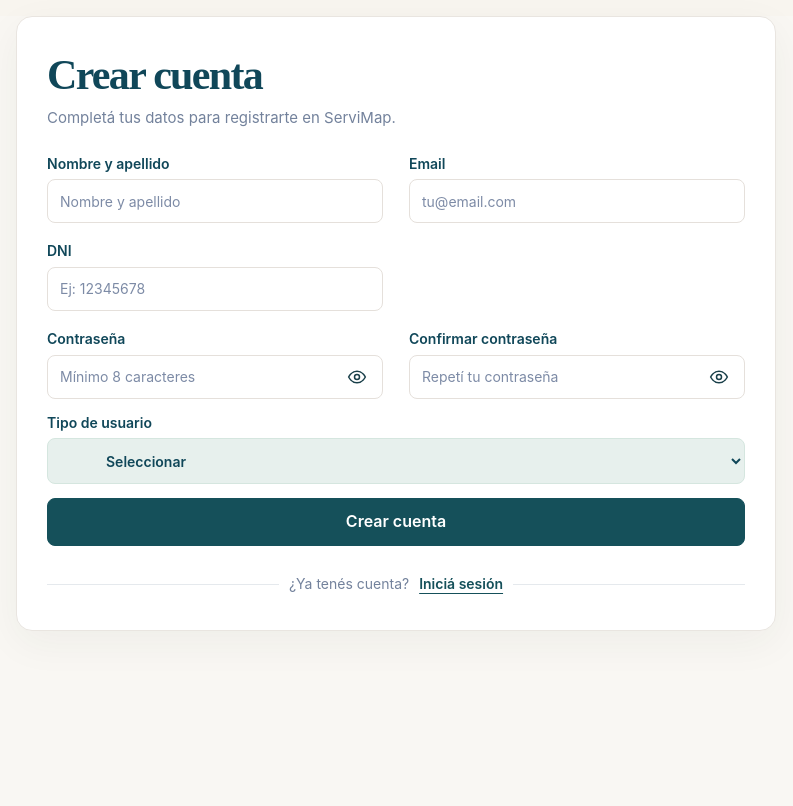
Test case: Registro de usuario › muestra errores cuando los campos están vacíos
The width and height of the screenshot is (793, 806).
Click the button "Crear cuenta": (396,522) [47,498,745,546]
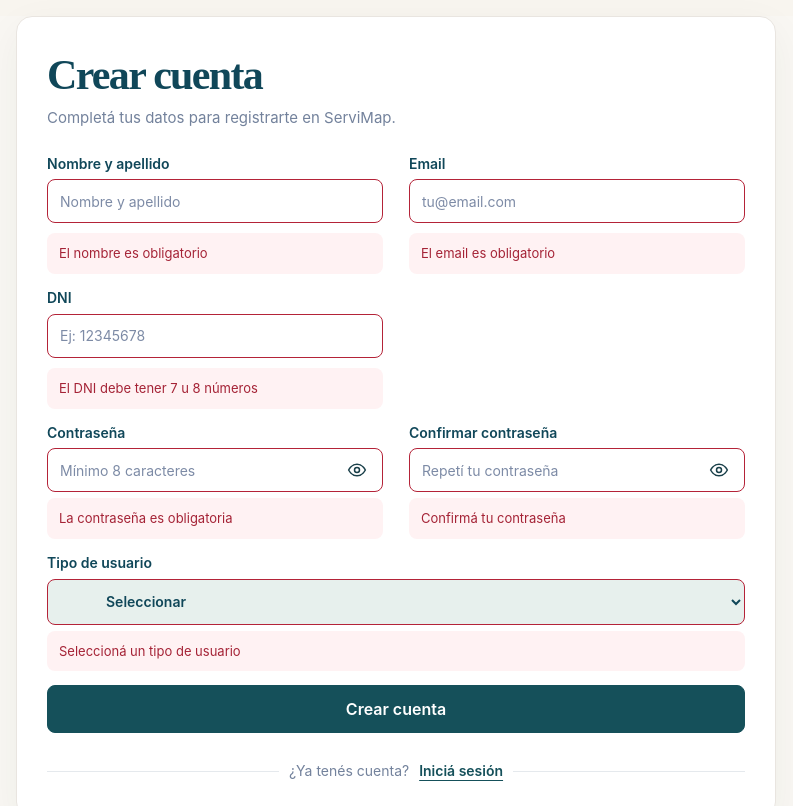
Check: the number of messages is 6, box [47,233,383,274]; [409,233,745,274]; [47,368,383,409]; [47,498,383,539]; [409,498,745,539]; [47,631,745,671]
Check: the text "El nombre es obligatorio" is shown, box [47,233,383,274]
